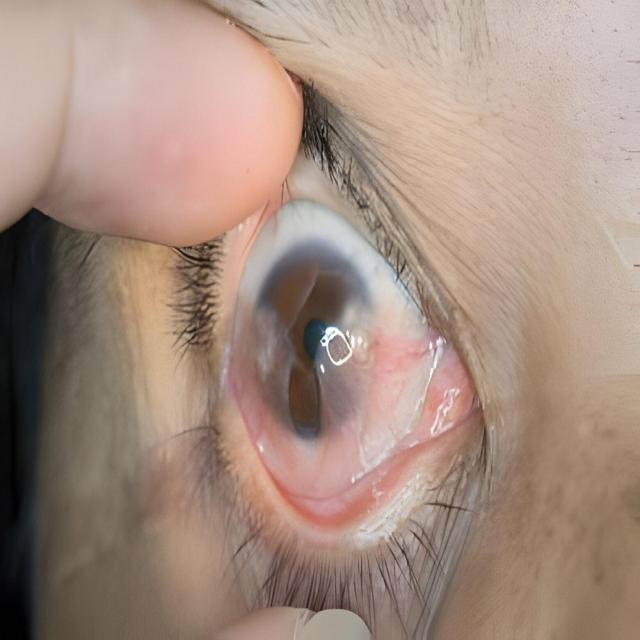Pterygium: (318, 276, 468, 474), (216, 280, 296, 457)
